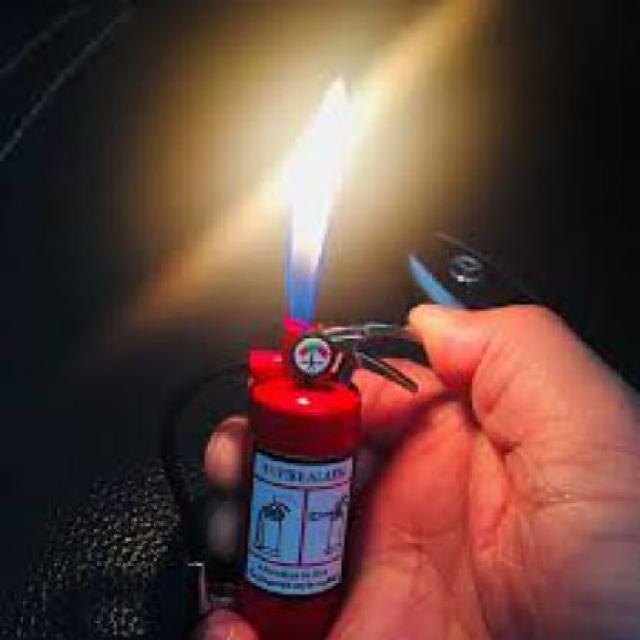Fire: (284, 73, 350, 325)
